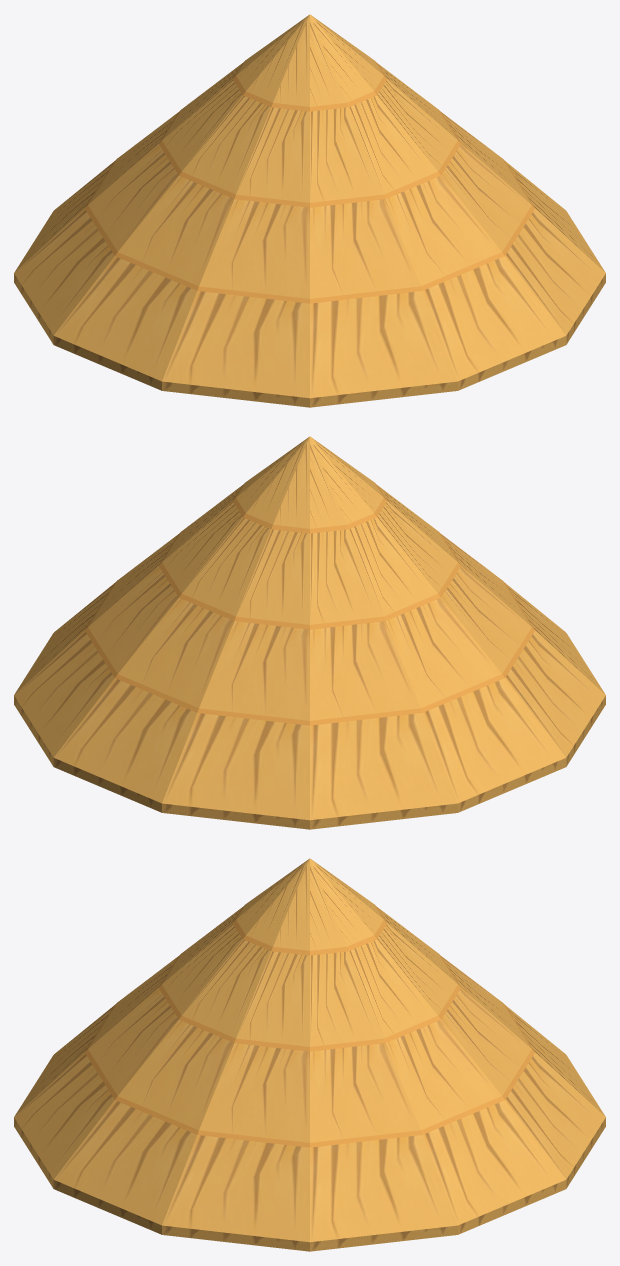
Rendered from rc_wa_roof_thatchcone_8m.glb.
3 renders of one model, top to bottom at view 1: azimuth 30°, elevation 25°; view 2: azimuth 150°, elevation 25°; view 3: azimuth 270°, elevation 25°, orthographic.
Visible parts, largest first — view 1: SM_RC_WA_ThatchCone_8m; view 2: SM_RC_WA_ThatchCone_8m; view 3: SM_RC_WA_ThatchCone_8m.
Boxes of the visible parts, box(x1,y1,x2,y2) form: SM_RC_WA_ThatchCone_8m: box(14, 14, 605, 407); SM_RC_WA_ThatchCone_8m: box(14, 436, 605, 829); SM_RC_WA_ThatchCone_8m: box(14, 858, 605, 1251).
Size of the model in its own units: 8 by 4 by 8.
Materials: 1 (1 with a texture image).
